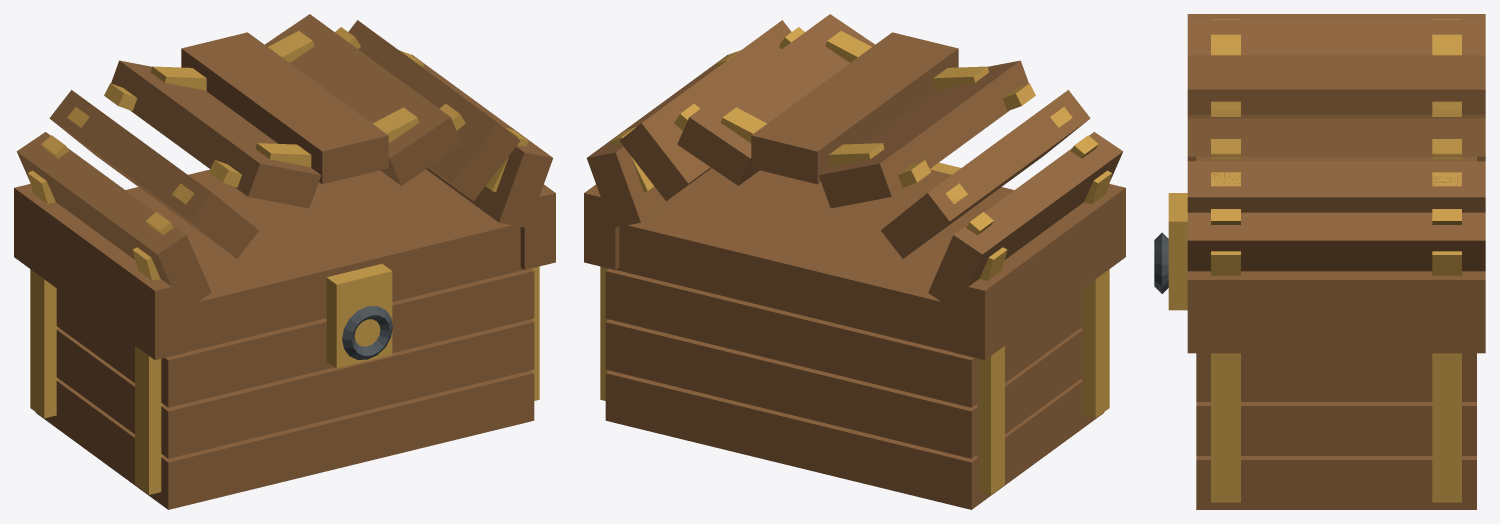
File: cargo-treasure.glb
3 renders of one model, left to right at view 1: azimuth 30°, elevation 25°; view 2: azimuth 150°, elevation 25°; view 3: azimuth 270°, elevation 25°, orthographic. The views are drawn at different scales.
Visible parts, largest first — view 1: cargo-treasure; view 2: cargo-treasure; view 3: cargo-treasure.
Part boxes in pixels (x1,y1,x2,y2): cargo-treasure: (14,14,555,509); cargo-treasure: (584,14,1125,509); cargo-treasure: (1154,14,1485,509).
Size of the model in its own units: 1.15 by 0.8986 by 0.778.
